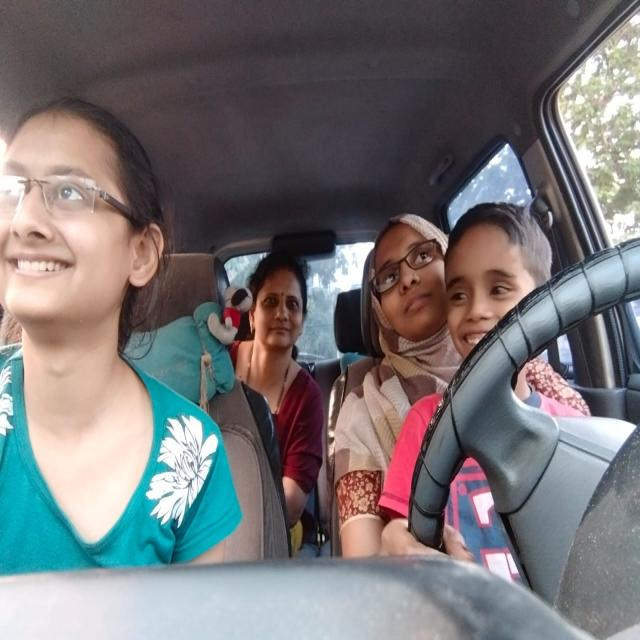child: (443, 204, 550, 356)
person: (8, 98, 170, 334), (363, 222, 446, 346), (248, 244, 309, 350)
